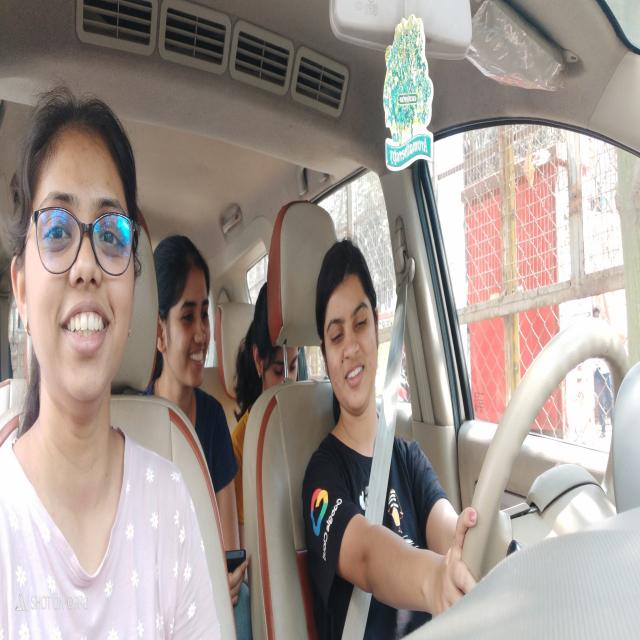drowsy: (310, 233, 385, 427)
person: (8, 90, 144, 421), (152, 240, 222, 389), (246, 278, 299, 407)
